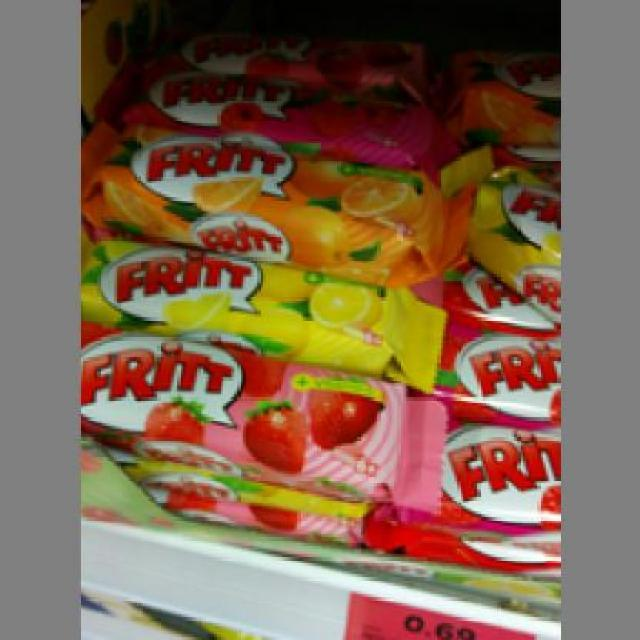Candy: (77, 317, 446, 506), (82, 226, 458, 383), (83, 120, 463, 274)
